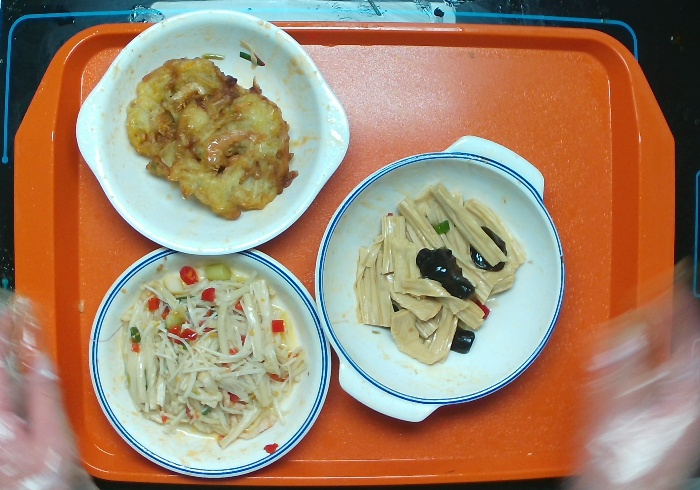HZYJPL-Dai_Er_Bai_Yuan_Wan: (73, 6, 352, 255)
HZYJPL-Lan_Bian_Dai_Er_Wan: (313, 135, 566, 425)
HZYJPL-Lan_Bian_Yuan_Die: (89, 242, 336, 478)
